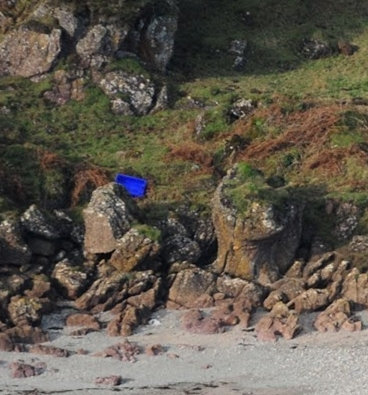cuboid: (107, 166, 154, 204)
